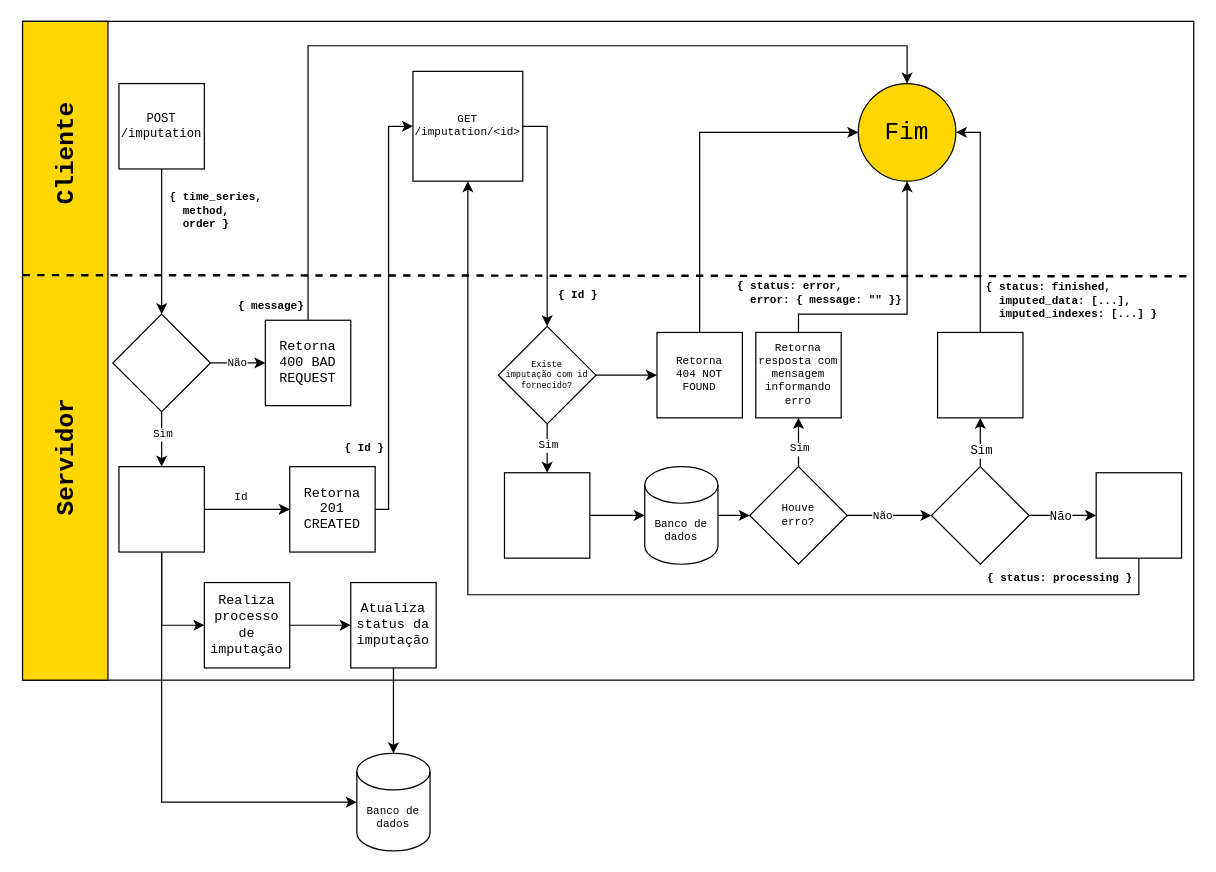
Some shapes in this 1216 by 872 pixel diagram are drawn without their labels. Here are the shapes that lost their labels. From the top down, the centre of each, then its label:
pixel 161 362: Passa na validação?
pixel 979 374: Retorna resposta com a série imputada
pixel 161 508: Cria processo de imputação
pixel 546 515: Verifica status da imputação
pixel 979 514: Imputação finalizada?
pixel 1138 515: Retorna resposta sem a série imputada
